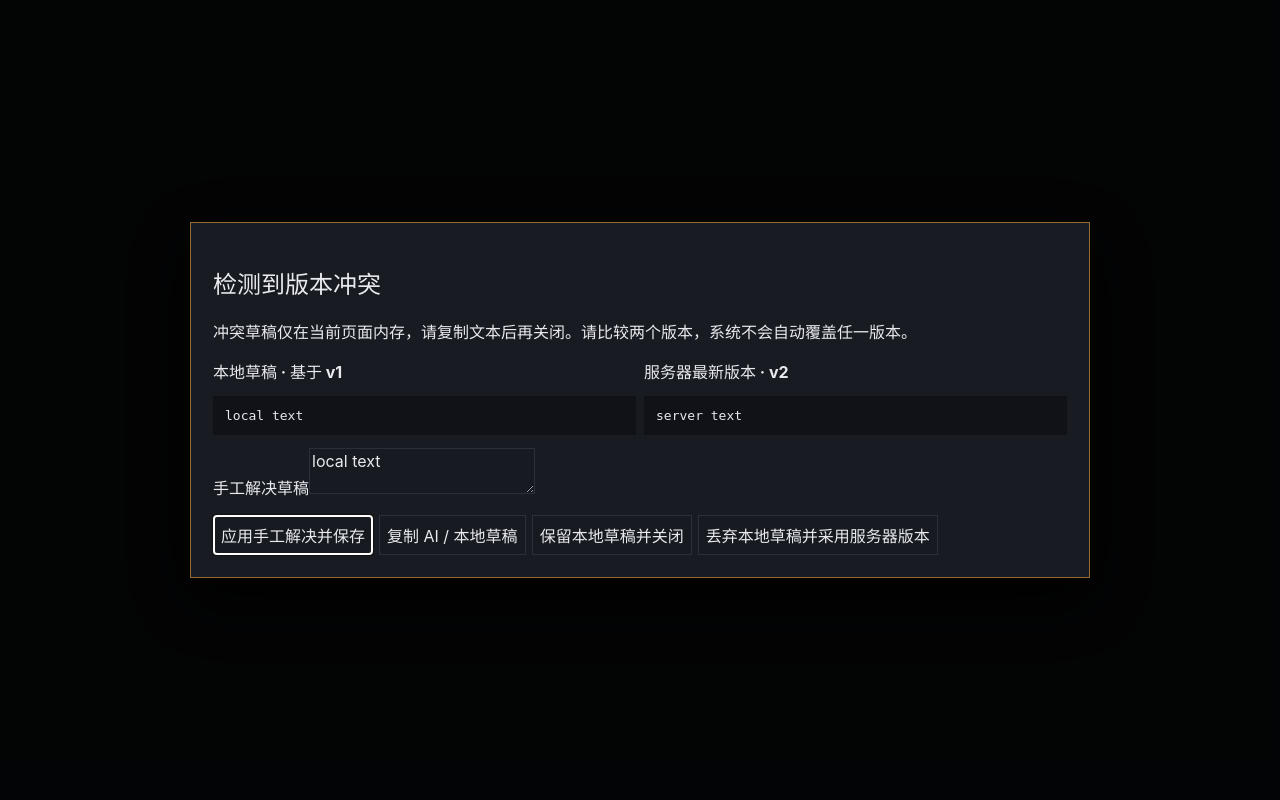
Test: ConflictDialog lifecycle › copies the preserved local or AI draft explicitly
The image size is (1280, 800).
Click the button "复制 AI / 本地草稿" at point(452, 535), box [379,515,526,555]
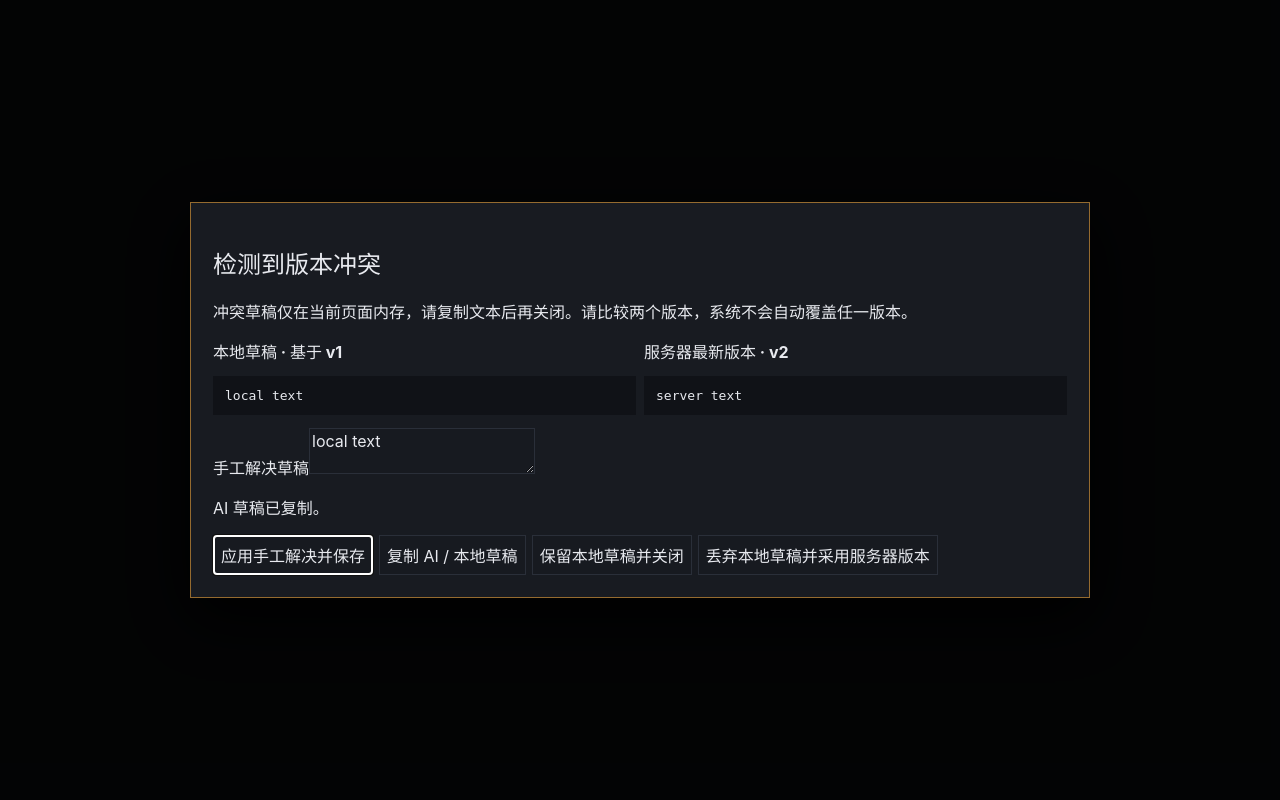
expect the text "AI 草稿已复制。" is shown: met, box [213,498,329,518]
